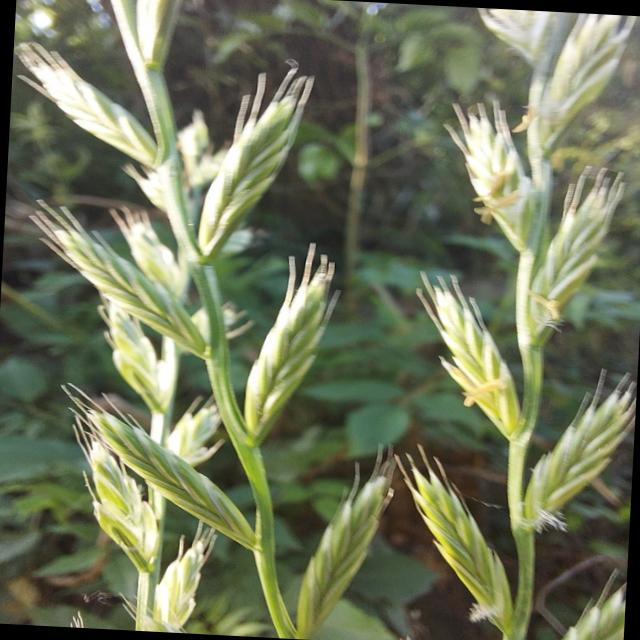Lolium: (20, 0, 358, 640), (383, 4, 640, 640), (74, 98, 246, 632)
